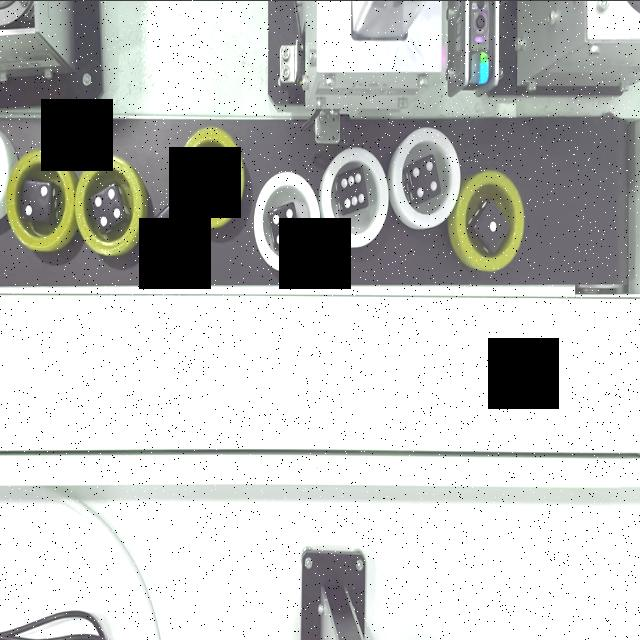DICE1: (156, 200, 187, 250), (478, 203, 506, 246)
DICE2: (21, 183, 49, 226)
DICE4: (271, 206, 303, 250), (409, 154, 439, 198), (197, 158, 226, 202), (94, 187, 122, 231)
DICE6: (339, 168, 371, 214)
RedChip: (454, 170, 526, 272), (175, 122, 243, 226), (75, 153, 145, 254), (6, 149, 74, 251)
WhiteChip: (389, 126, 464, 232), (252, 168, 324, 274), (322, 146, 394, 250)
